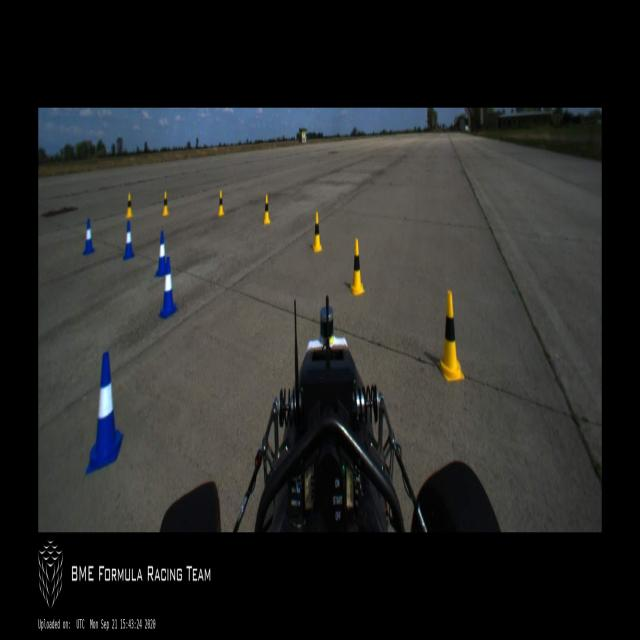blue_cone: (85, 352, 124, 476), (158, 257, 178, 318), (154, 231, 167, 276), (82, 218, 95, 254), (123, 222, 134, 260)
yellow_cone: (437, 290, 464, 382), (349, 238, 365, 296), (312, 212, 322, 253), (263, 193, 271, 224), (162, 191, 169, 216), (126, 194, 133, 218), (218, 189, 224, 217)
